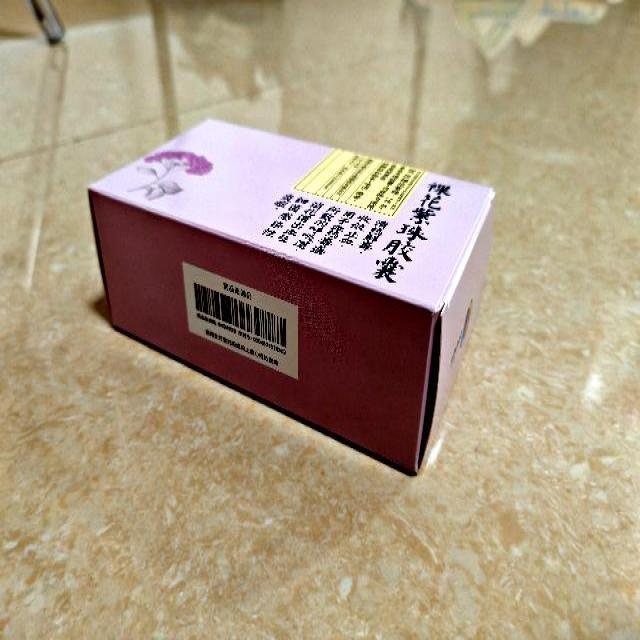box: (86, 120, 494, 474)
